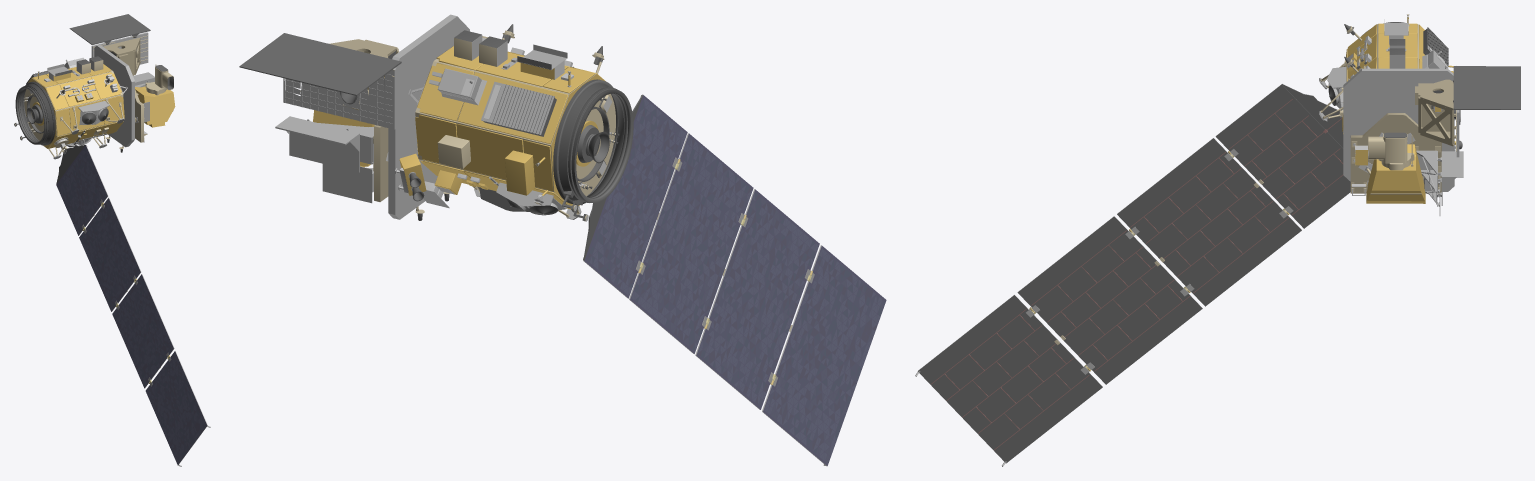
Rendered from landsat.glb.
The picture shows the model from 3 angles, left to right: view 1: azimuth 30°, elevation 25°; view 2: azimuth 150°, elevation 25°; view 3: azimuth 270°, elevation 25°; orthographic projection. The views are drawn at different scales.
Visible parts, largest first — view 1: Layer_0; view 2: Layer_0; view 3: Layer_0.
Boxes of the visible parts, x1,y1,x2,y2 form: Layer_0: [14, 14, 210, 466]; Layer_0: [239, 14, 886, 466]; Layer_0: [915, 14, 1520, 466].
Bounding box in the file's own units: 91950 × 185687 × 226805.
